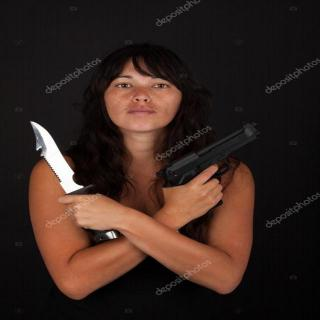knife: (24, 117, 100, 233)
